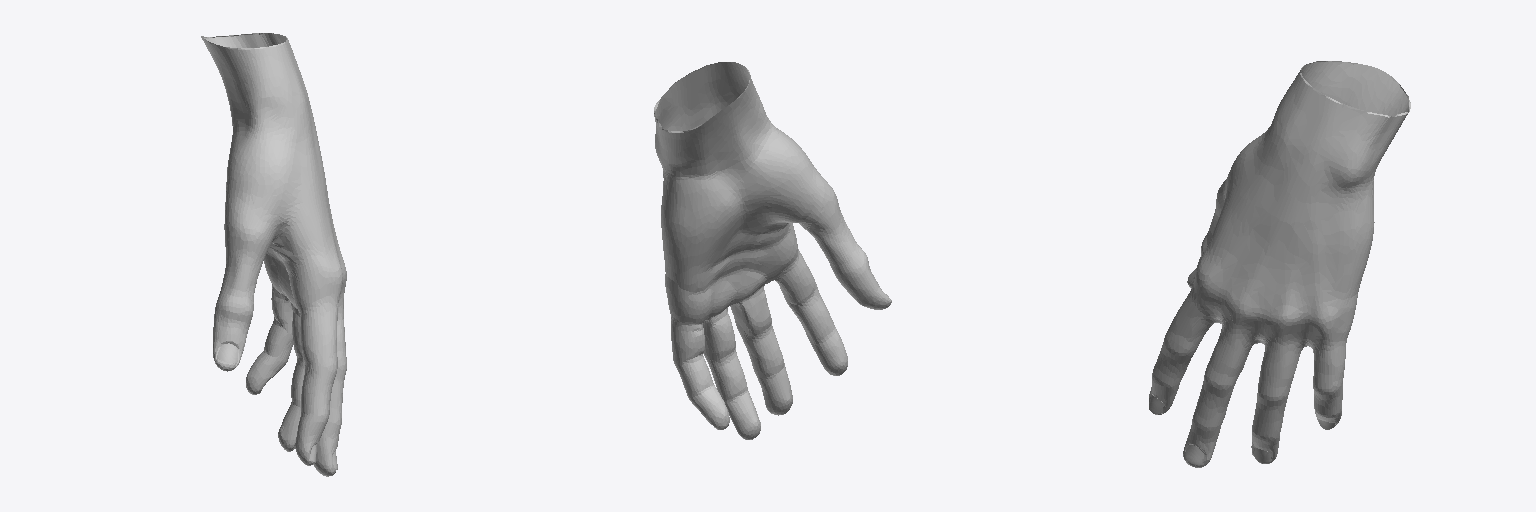
Rendered from hand.obj.
3 views of the same model, side by side, from view 1: azimuth 30°, elevation 25°; view 2: azimuth 150°, elevation 25°; view 3: azimuth 270°, elevation 25° (orthographic).
Parts seen in each view (by area): view 1: Group51871; view 2: Group51871; view 3: Group51871.
Boxes of the visible parts, x1,y1,x2,y2 form: Group51871: [201, 33, 346, 476]; Group51871: [654, 62, 891, 439]; Group51871: [1149, 61, 1410, 467].
Size of the model in its own units: 10 by 23.04 by 13.97.